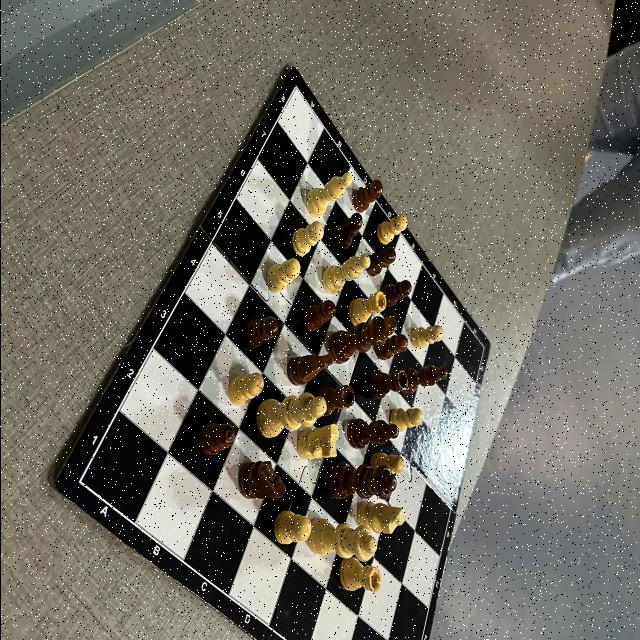Black-Bishop: (346, 418, 398, 449), (399, 365, 447, 395)
Black-King: (326, 315, 396, 365)
Black-Knight: (237, 460, 285, 500), (286, 353, 332, 387)
Black-Pawn: (197, 422, 235, 457), (302, 300, 336, 332), (244, 316, 278, 348), (334, 212, 362, 250), (351, 179, 382, 213), (366, 247, 396, 277), (374, 334, 406, 361), (380, 280, 410, 308)
Black-Queen: (327, 463, 396, 500)
Black-Rook: (367, 369, 408, 401), (326, 384, 354, 415)
White-Bishop: (304, 172, 351, 218), (321, 253, 370, 296)
White-King: (254, 392, 326, 439)
White-Knight: (356, 500, 406, 534), (296, 423, 338, 461)
White-Pawn: (273, 510, 311, 545), (228, 372, 264, 407), (266, 258, 300, 294), (291, 221, 323, 257), (375, 213, 407, 246), (368, 452, 404, 475), (388, 408, 422, 432), (410, 326, 442, 350)
White-Queen: (306, 518, 376, 561)
White-Rook: (338, 556, 381, 593), (348, 290, 386, 328)
